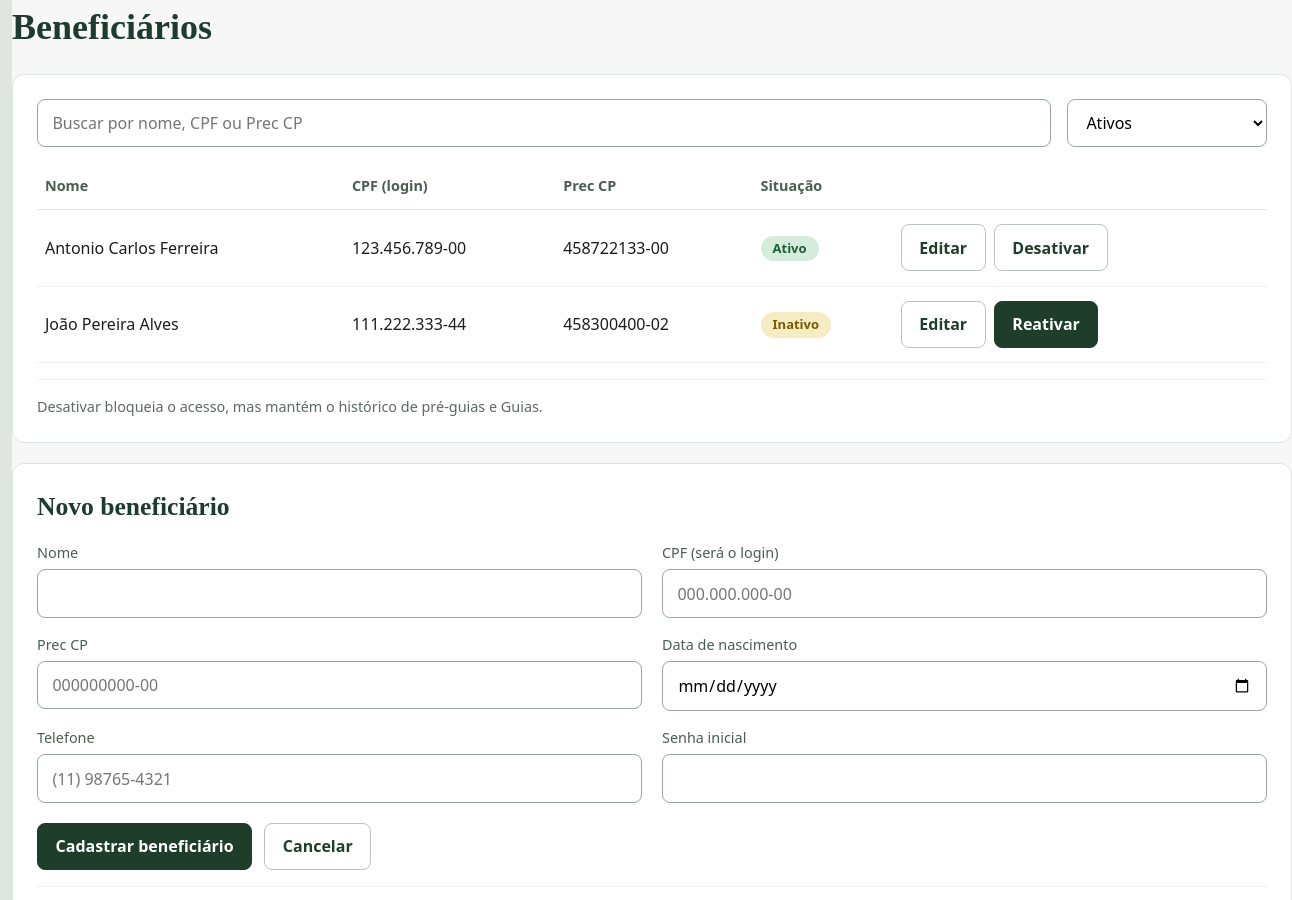
Test: T7-FE · Tela Beneficiários › rejeita CPF inválido
Check: the text "Antonio Carlos Ferreira" is shown, box [37,210,344,286]
Type "11111111111" into the field labelled "CPF (será o login)".
click(964, 594); type("11111111111")  # box [662,569,1267,618]
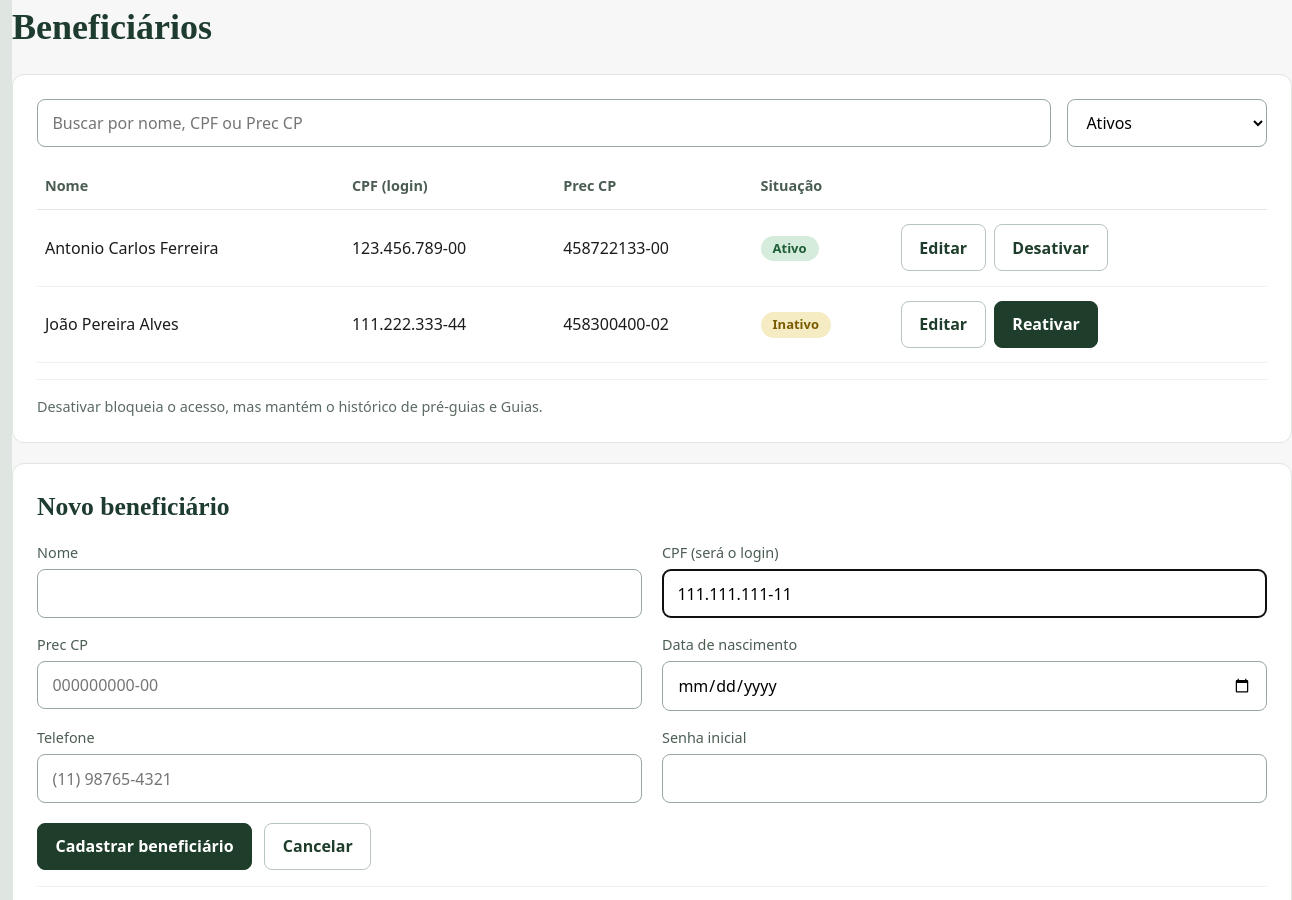
Check: the field labelled "CPF (será o login)" holds "111.111.111-11", box [662,569,1267,618]
Click the button "Cadastrar beneficiário".
click(145, 846)  # box [37,823,252,870]
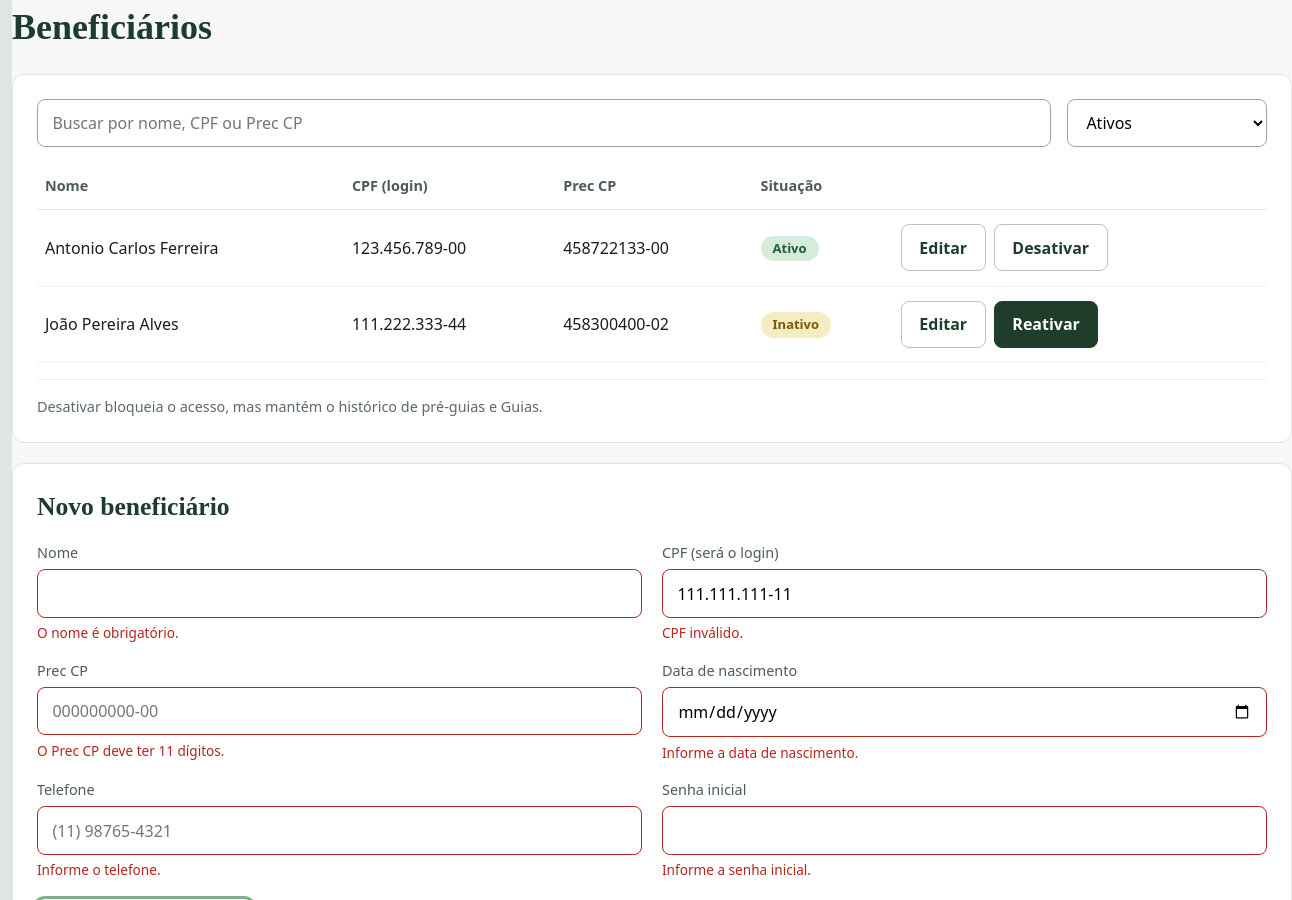
Check: the text "CPF inválido." is shown, box [662,623,743,642]
